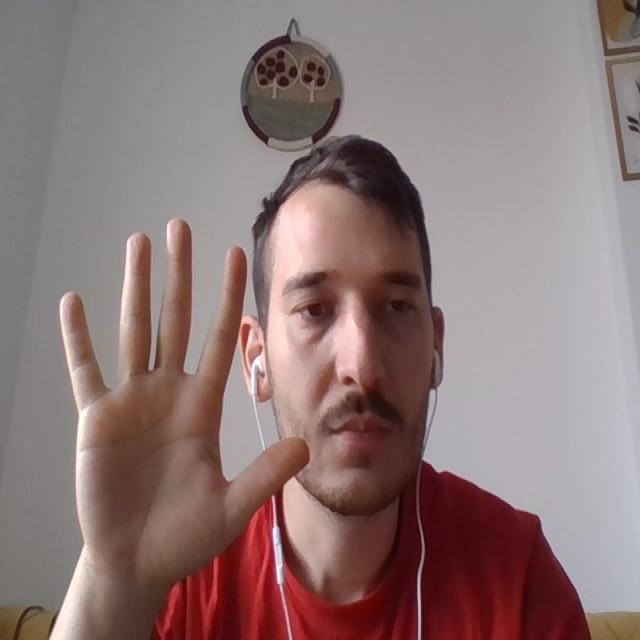hello: (59, 219, 290, 546)
